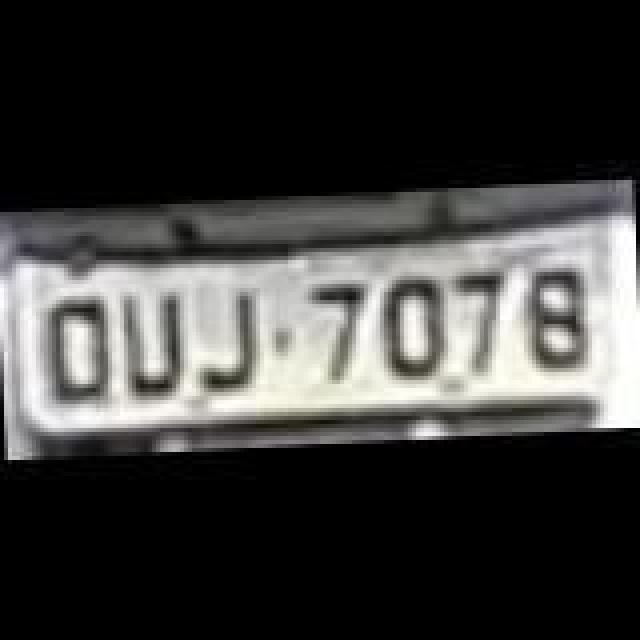7: (306, 276, 374, 388), (450, 272, 510, 384)
8: (526, 266, 594, 374)
J: (188, 286, 260, 394)
O: (44, 296, 116, 408), (384, 278, 448, 386)
U: (118, 288, 186, 400)
